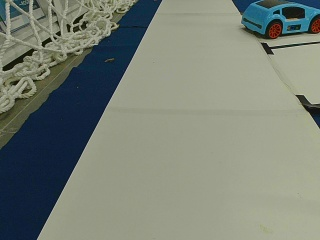car: (240, 2, 319, 37)
